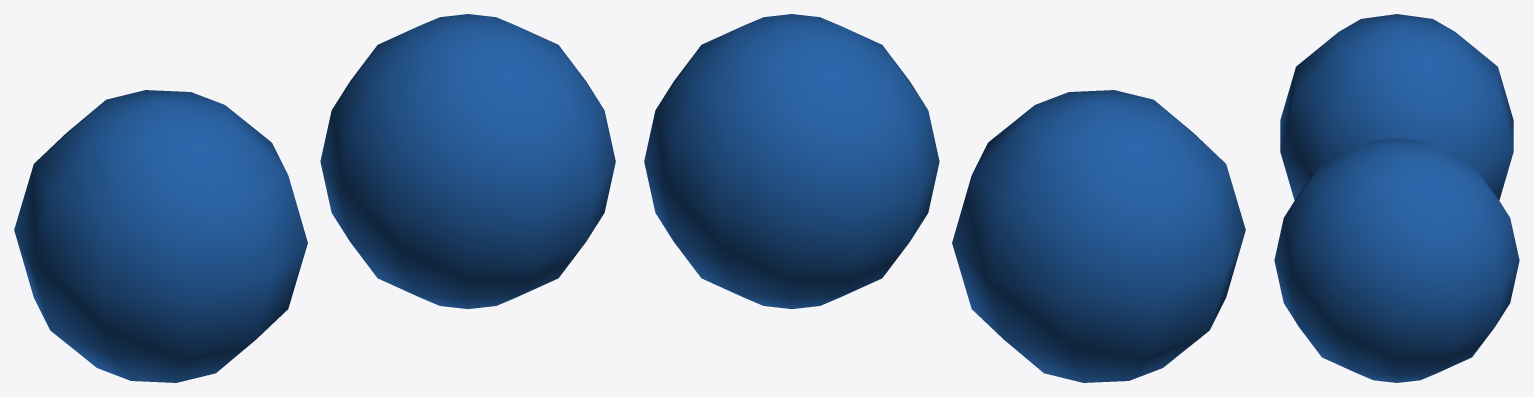
The model's file is morph-incompatible.glb.
3 renders of one model, left to right at view 1: azimuth 30°, elevation 25°; view 2: azimuth 150°, elevation 25°; view 3: azimuth 270°, elevation 25°, orthographic. The views are drawn at different scales.
Visible parts, largest first — view 1: cortex.right, cortex.left; view 2: cortex.right, cortex.left; view 3: cortex.right, cortex.left.
Boxes of the visible parts, bbox=[...] form: cortex.right: bbox=[320, 14, 615, 308]; cortex.left: bbox=[14, 90, 307, 382]; cortex.right: bbox=[644, 14, 939, 308]; cortex.left: bbox=[952, 90, 1245, 382]; cortex.right: bbox=[1274, 138, 1519, 382]; cortex.left: bbox=[1280, 14, 1513, 200].
Size of the model in its own units: 4.4 by 2 by 2.
